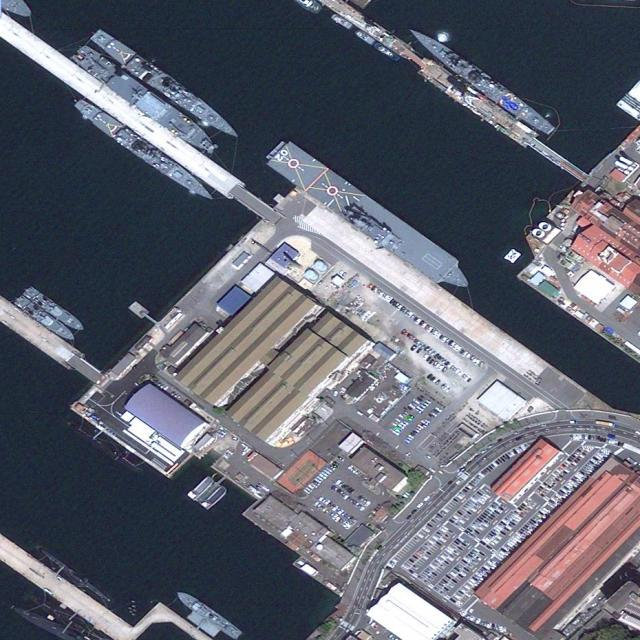Auxiliary Ships: (71, 43, 222, 158)
Destroyer: (87, 28, 243, 145), (404, 21, 558, 139), (71, 94, 218, 206)
Landing: (262, 136, 478, 300)
Other Warship: (175, 586, 242, 640), (23, 284, 91, 337), (14, 295, 78, 344)
Submarine: (32, 542, 113, 608), (57, 412, 144, 473)
